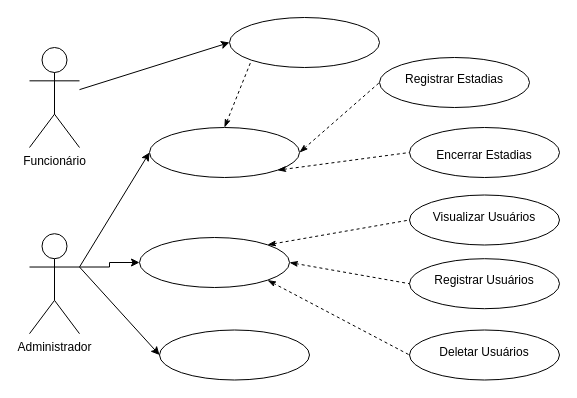
The diagram is 577 pixels wide and 398 high, and some of its shapes have lost their labels. The shapes that lost their labels are listed below. From the top down, each one's centre as x and y in pixels, then its label:
(x=304, y=42): Visualizar Estadias
(x=224, y=152): Listar Estadias
(x=214, y=262): Listar Usuários
(x=234, y=354): Visualizar Histórico
